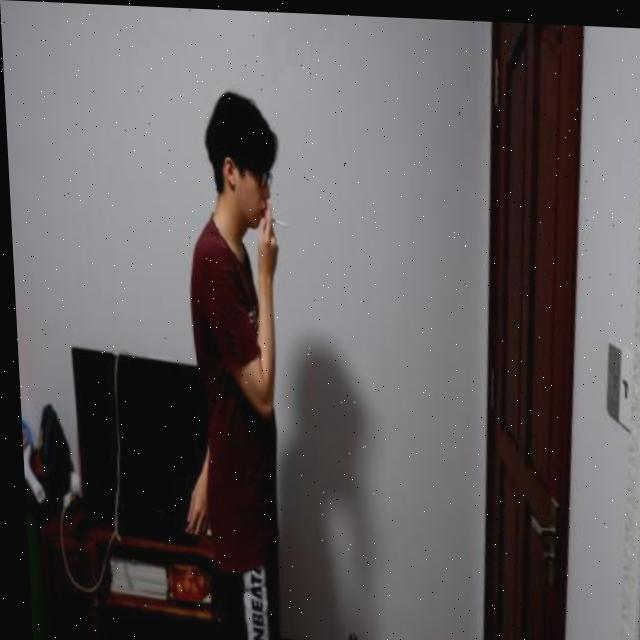cigarette: (269, 215, 286, 228)
